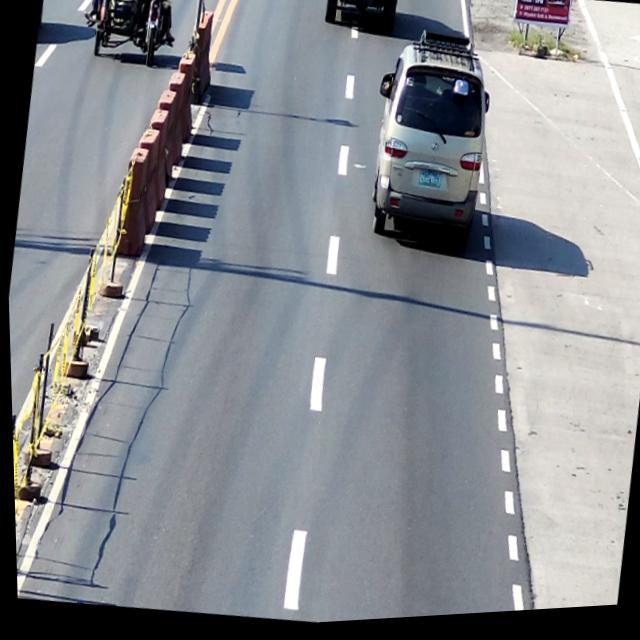Car: (358, 24, 502, 256), (323, 0, 402, 38)
License-Plate: (416, 174, 441, 194)
Tricycle: (88, 0, 178, 73)
